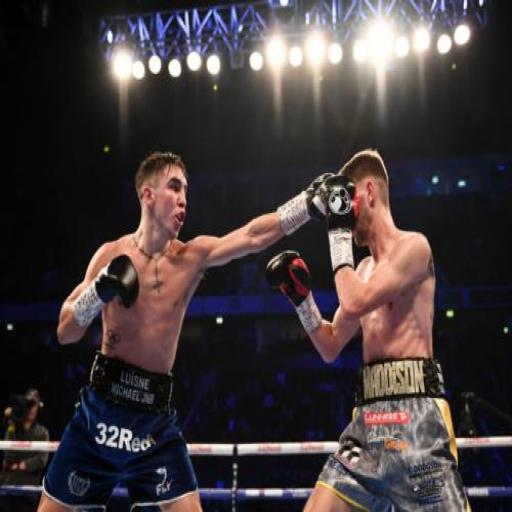boxing: (18, 148, 356, 510), (260, 109, 486, 512)
